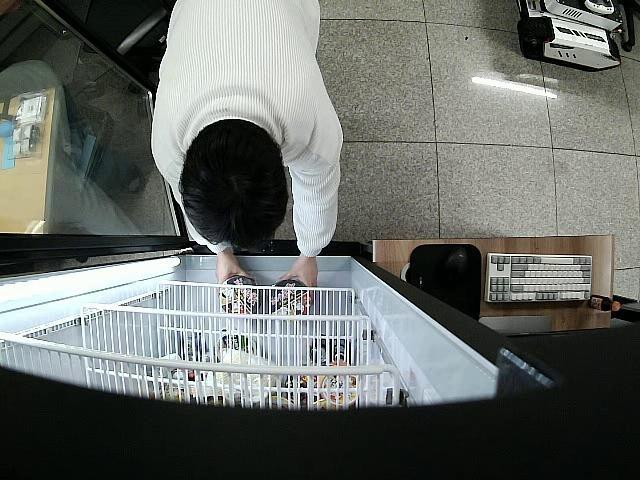07_buldak_L: (217, 276, 260, 317), (269, 279, 314, 314)
